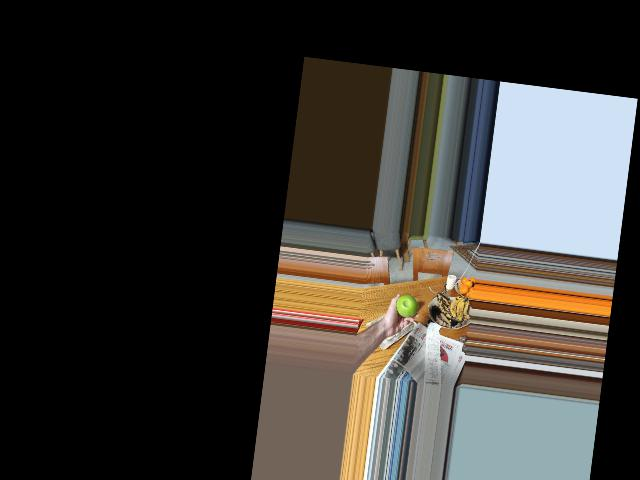apple: (393, 292, 417, 319)
